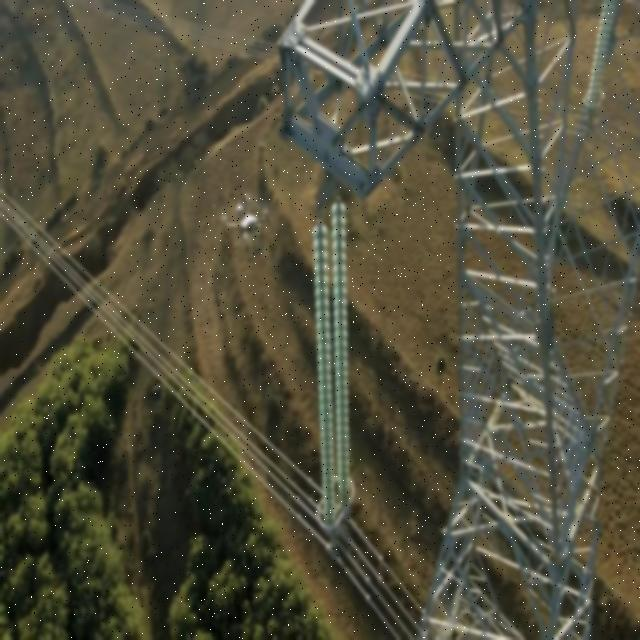UAV: (222, 195, 269, 262)
